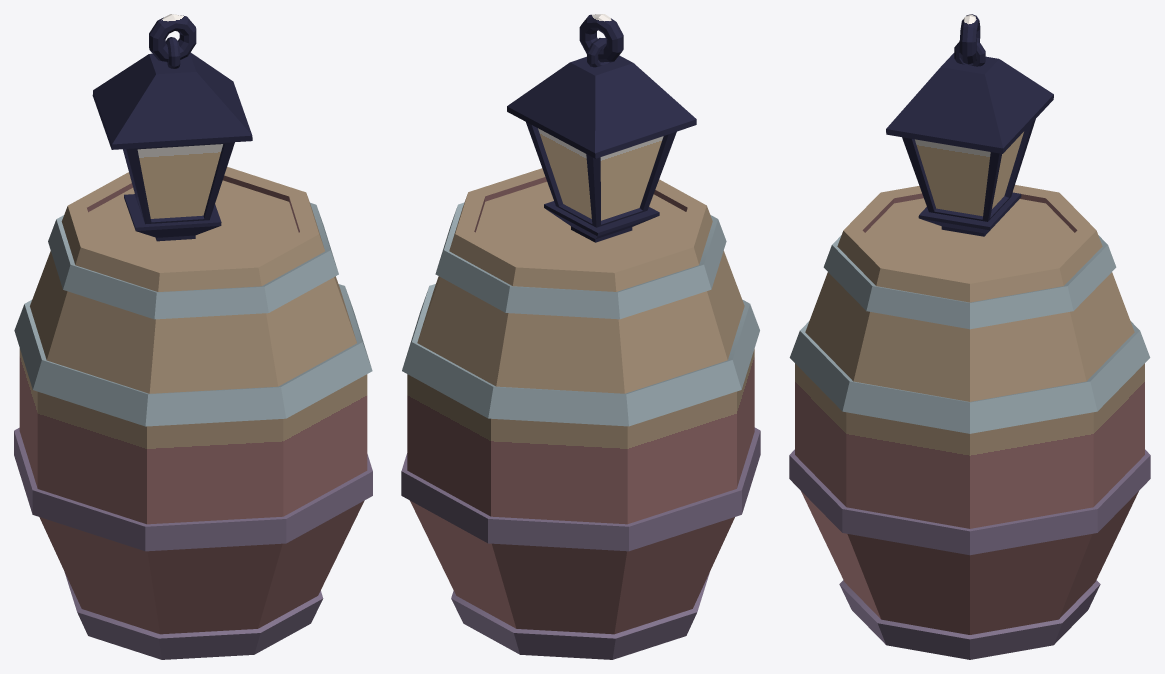
Rendered from tonneau_03.fbx.
3 renders of one model, left to right at view 1: azimuth 30°, elevation 25°; view 2: azimuth 150°, elevation 25°; view 3: azimuth 270°, elevation 25°, orthographic. The views are drawn at different scales.
Parts seen in each view (by area): view 1: tonneau_03; view 2: tonneau_03; view 3: tonneau_03.
Part boxes in pixels (x1,y1,x2,y2): tonneau_03: (14, 14, 372, 659); tonneau_03: (401, 14, 760, 659); tonneau_03: (789, 14, 1150, 659).
Size of the model in its own units: 1.17 by 2.09 by 1.17.
2 materials, 2 textured.
